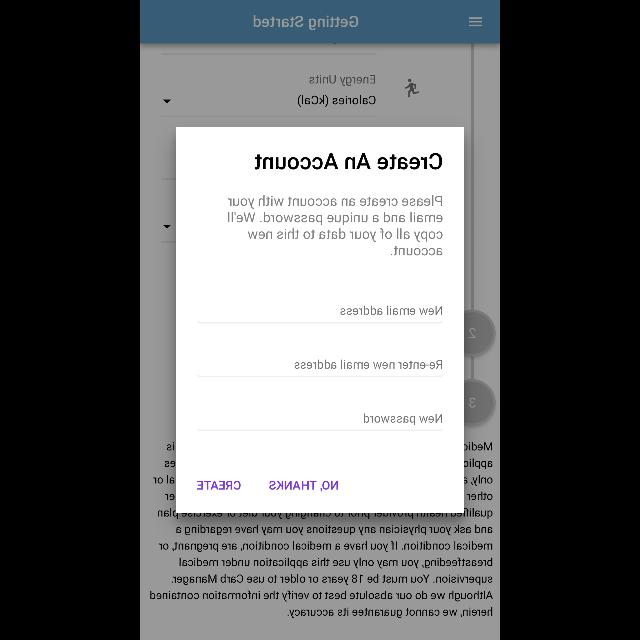icon: (405, 78, 419, 98), (468, 18, 482, 27), (163, 100, 171, 104)
input: (197, 413, 443, 431), (197, 359, 443, 377), (197, 305, 443, 323)
panel: (176, 127, 464, 513)
text: (150, 524, 492, 618), (228, 196, 442, 256), (254, 154, 442, 170), (254, 15, 358, 30), (294, 359, 442, 368), (340, 305, 442, 315), (297, 95, 375, 107), (364, 413, 442, 425), (309, 75, 375, 87), (269, 481, 337, 492), (198, 480, 240, 490)
